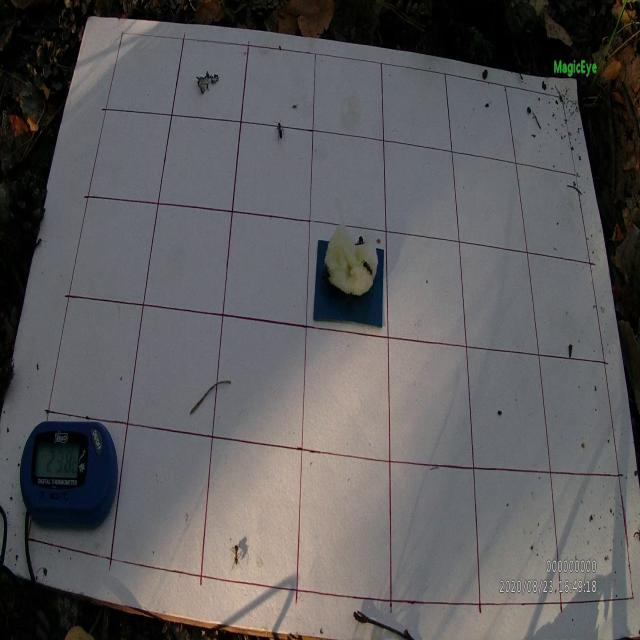Ant: (230, 540, 243, 571), (273, 120, 285, 143), (361, 259, 373, 278)
